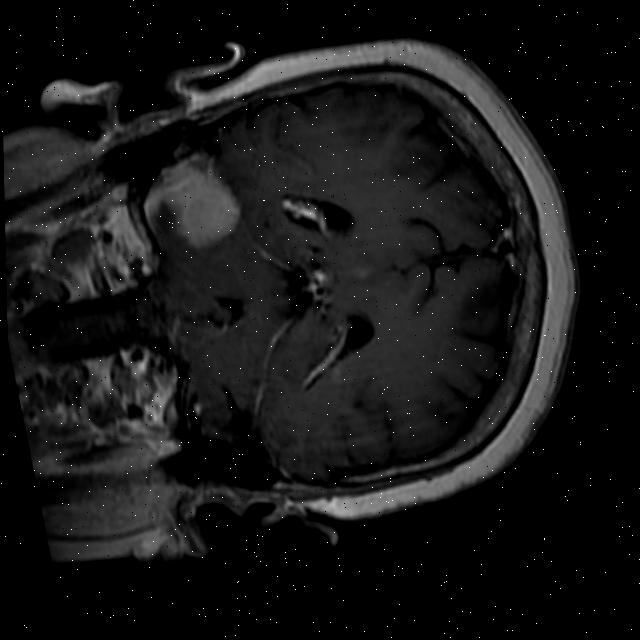Meningioma: (149, 145, 249, 251)
